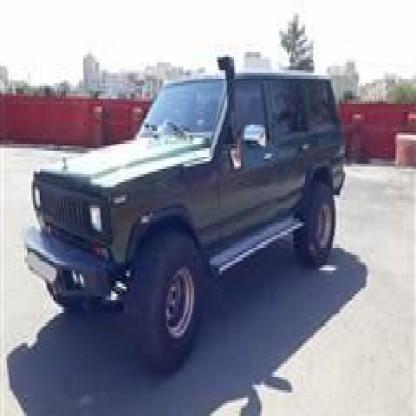Car: (16, 68, 345, 369)
